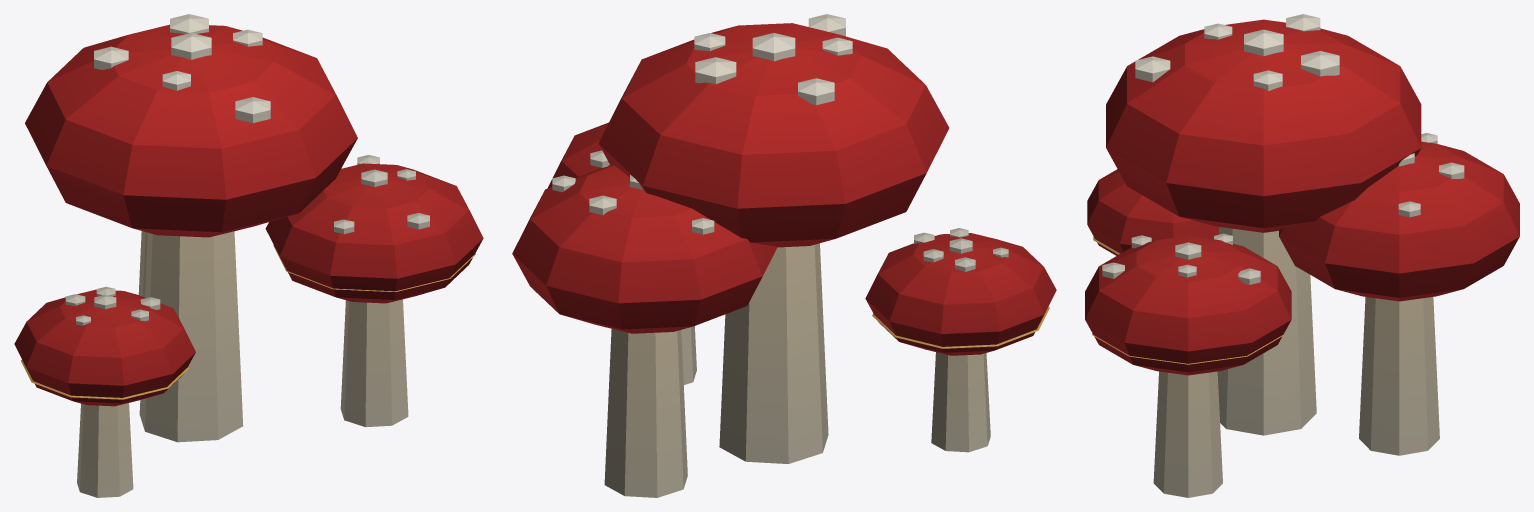
The model's file is toadstool_cluster.glb.
The picture shows the model from 3 angles, left to right: view 1: azimuth 30°, elevation 25°; view 2: azimuth 150°, elevation 25°; view 3: azimuth 270°, elevation 25°; orthographic projection. The views are drawn at different scales.
Visible parts, largest first — view 1: toadstool_cluster; view 2: toadstool_cluster; view 3: toadstool_cluster.
Boxes of the visible parts, x1,y1,x2,y2 form: toadstool_cluster: [14, 14, 483, 497]; toadstool_cluster: [512, 14, 1056, 497]; toadstool_cluster: [1085, 14, 1519, 497].
Bounding box in the file's own units: 1.71 × 1.39 × 1.44.
